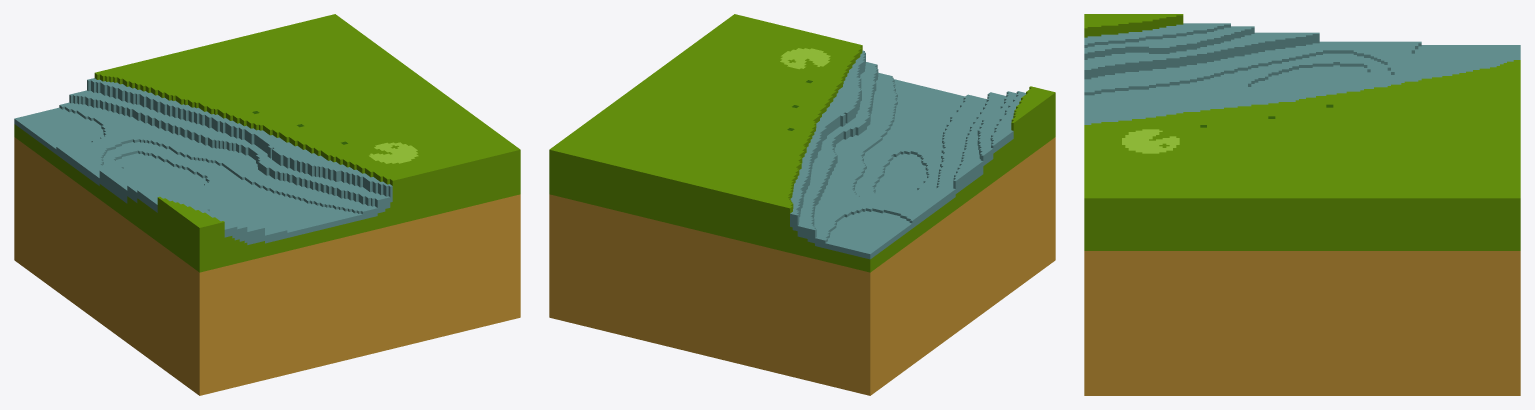
3 renders of one model, left to right at view 1: azimuth 30°, elevation 25°; view 2: azimuth 150°, elevation 25°; view 3: azimuth 270°, elevation 25°, orthographic. The views are drawn at different scales.
Parts seen in each view (by area): view 1: 14N.001; view 2: 14N.001; view 3: 14N.001.
Boxes of the visible parts, x1=… form: 14N.001: x1=14, y1=14, x2=520, y2=395; 14N.001: x1=549, y1=14, x2=1055, y2=395; 14N.001: x1=1084, y1=14, x2=1520, y2=395.
Size of the model in its own units: 12.8 by 6.4 by 12.8.
Materials: 1 (1 with a texture image).
